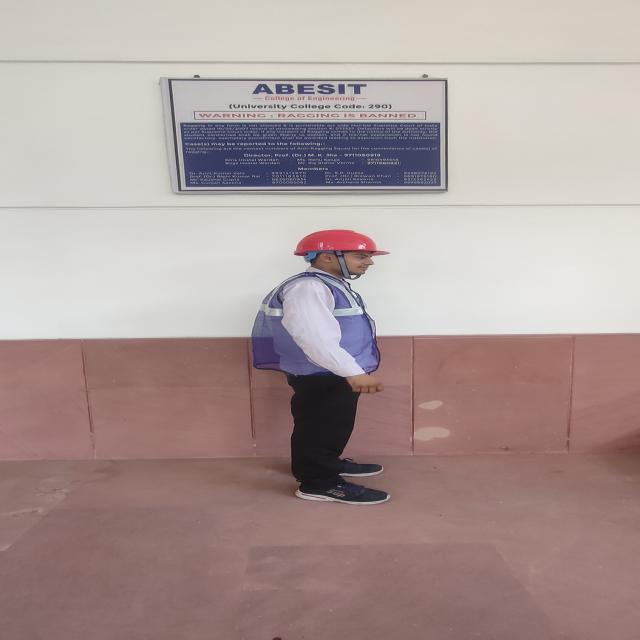safe: (251, 230, 390, 505)
